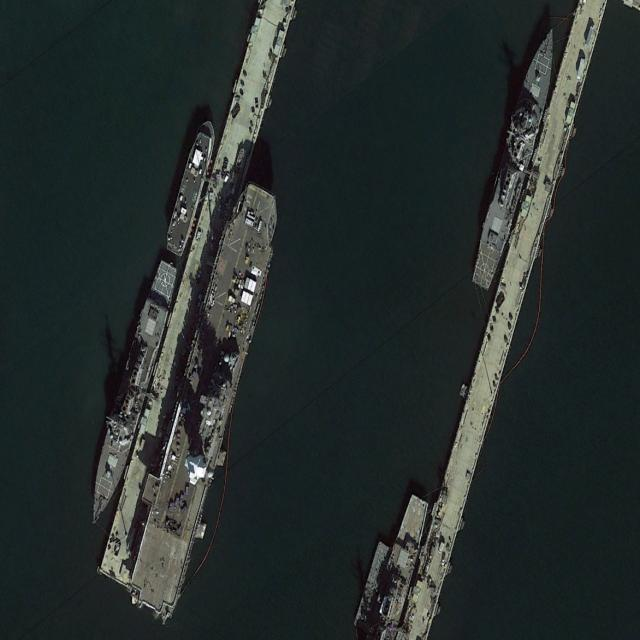Destroyer: (79, 256, 182, 535), (466, 17, 566, 296)
Landing: (115, 171, 288, 628)
Other Ship: (163, 116, 218, 259)
